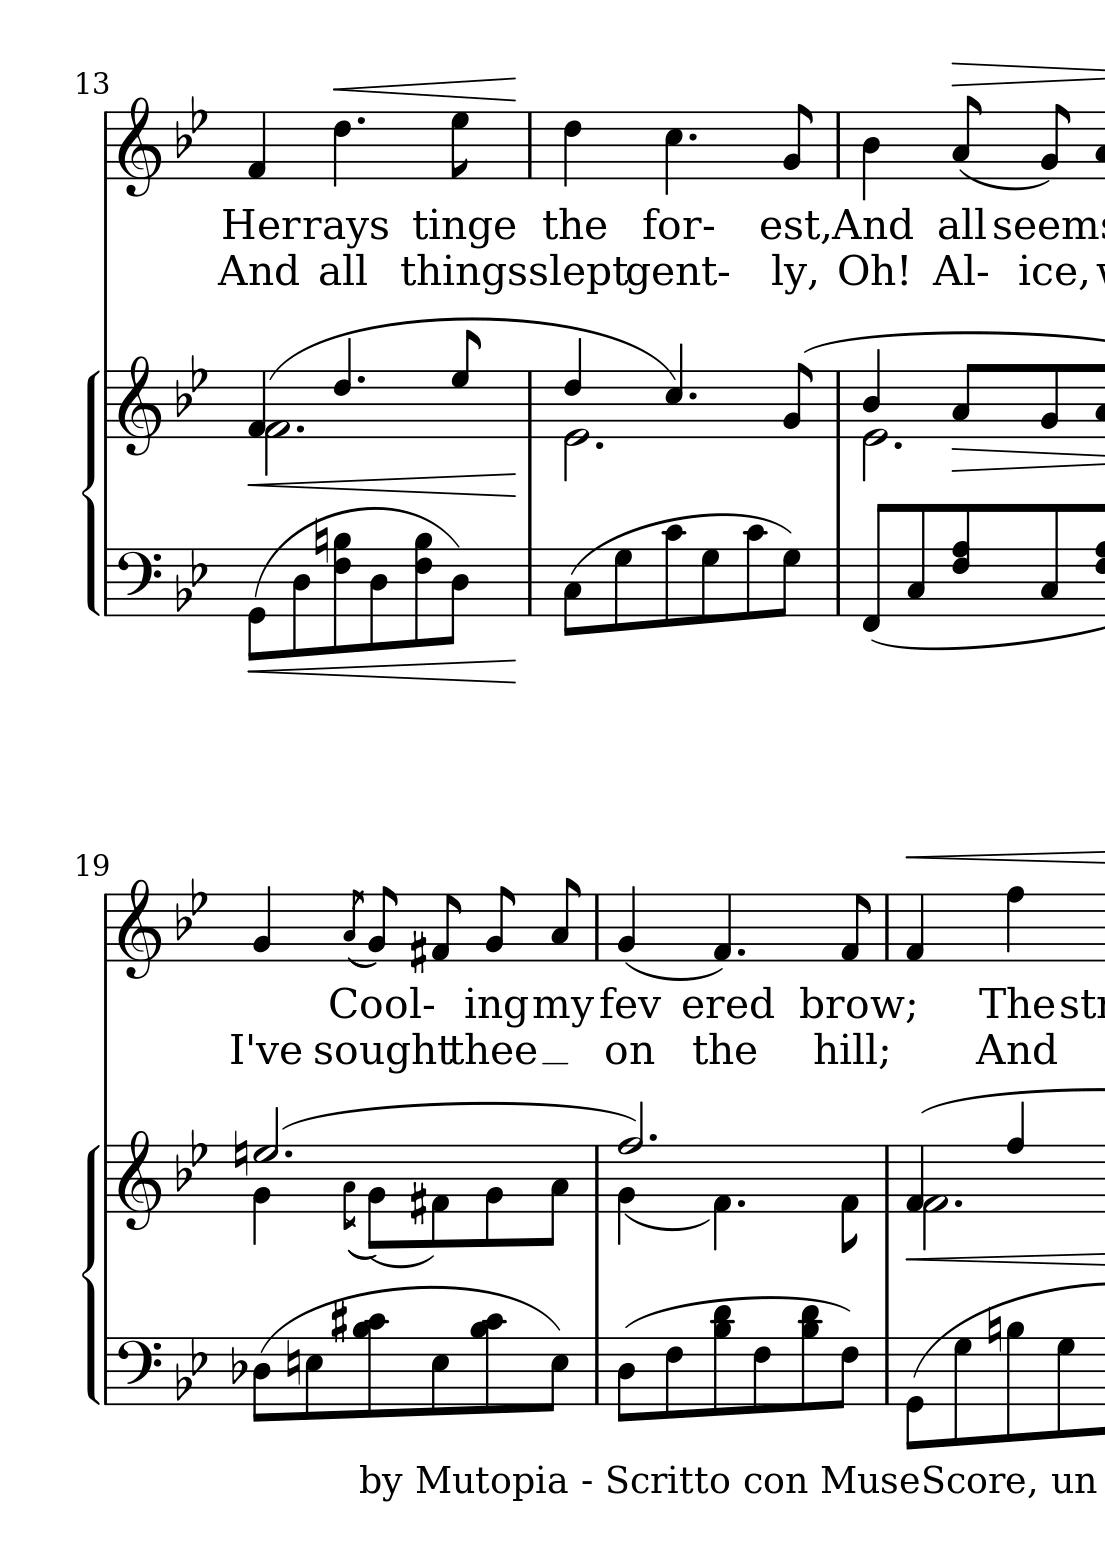1: (74, 851, 90, 879), (75, 69, 90, 97)
2_1: (265, 370, 291, 476), (924, 1144, 947, 1248)
3: (92, 69, 110, 97)
4_1: (712, 1142, 731, 1252), (902, 892, 926, 963), (244, 110, 267, 181), (710, 892, 732, 963), (904, 1144, 924, 1214), (248, 370, 265, 439)
4_2: (615, 884, 637, 963), (251, 883, 273, 963)
4_4: (860, 110, 881, 200)
4_5: (663, 341, 684, 440), (663, 109, 683, 197)
4_6: (330, 335, 352, 441), (561, 110, 582, 188), (331, 109, 352, 189)
4_8: (1003, 884, 1026, 964)
8_-1: (856, 502, 889, 634)
8_0: (905, 1337, 924, 1451), (248, 547, 265, 661)
8_1: (428, 892, 462, 963), (838, 892, 871, 963), (428, 1144, 450, 1250), (838, 1143, 857, 1254)
8_10: (660, 524, 686, 629), (741, 525, 767, 621)
8_2: (1038, 103, 1070, 182), (483, 884, 515, 963), (781, 360, 812, 440), (780, 102, 810, 182), (366, 885, 397, 961), (365, 1143, 386, 1250), (482, 1143, 503, 1248), (1038, 362, 1061, 441)
8_3: (541, 1142, 569, 1248), (950, 94, 982, 184), (548, 877, 580, 963), (904, 501, 927, 619), (1038, 501, 1061, 618), (950, 362, 979, 440), (561, 547, 582, 639)
8_4: (442, 547, 469, 646), (366, 547, 387, 653), (289, 547, 310, 658), (613, 1336, 637, 1425), (250, 1336, 271, 1424)
8_5: (541, 1336, 568, 1414), (303, 1336, 323, 1422), (429, 1336, 450, 1418)
8_6: (831, 1336, 859, 1410), (663, 1336, 683, 1422), (751, 1336, 771, 1416)
8_6_8: (951, 503, 971, 617)
8_6_9: (332, 532, 354, 654), (413, 532, 432, 649)
8_7: (448, 329, 478, 440), (951, 1335, 973, 1447), (1054, 1336, 1077, 1440), (773, 548, 800, 619), (611, 547, 633, 633), (698, 547, 720, 624), (448, 111, 470, 183)
8_8: (1005, 1099, 1026, 1215)
8_9: (1005, 1320, 1025, 1446)
8_9_10: (354, 1313, 390, 1419), (471, 1313, 508, 1414)
8_9_11: (710, 1305, 735, 1417), (798, 1305, 822, 1411)
9: (90, 850, 109, 879)
Acciaccature: (340, 1144, 359, 1234), (342, 886, 362, 961)
B_F: (175, 1335, 208, 1403), (173, 1127, 208, 1191), (173, 94, 207, 159), (173, 353, 207, 417), (176, 547, 208, 613), (173, 878, 207, 941)
Brace: (83, 1143, 100, 1404), (83, 368, 100, 616)
Crescendo_hairpin: (246, 657, 517, 686), (249, 471, 518, 497), (332, 74, 518, 103)
Fclef: (115, 547, 161, 618), (115, 1335, 160, 1406)
Flat: (228, 1344, 245, 1386)
Gclef: (116, 877, 161, 982), (116, 1129, 161, 1232), (117, 94, 161, 199), (117, 354, 161, 457)
Natural: (283, 1337, 300, 1387), (312, 517, 329, 566), (231, 1128, 248, 1177), (985, 1306, 1001, 1353)
Sharp: (407, 930, 428, 976), (329, 1299, 348, 1347), (408, 1180, 426, 1227)
Single_barline: (878, 1337, 896, 1405), (829, 372, 847, 439), (588, 1338, 606, 1405), (521, 548, 538, 617), (521, 372, 538, 439), (829, 549, 845, 616), (878, 895, 895, 961), (521, 112, 538, 178), (829, 112, 845, 178), (878, 1146, 895, 1211), (99, 370, 115, 439), (99, 1144, 115, 1214), (97, 112, 112, 181), (590, 895, 605, 960), (590, 1147, 605, 1211), (98, 895, 112, 961), (99, 1338, 114, 1404), (100, 549, 114, 616)
Slur: (279, 1101, 636, 1129), (623, 963, 724, 984), (371, 1252, 435, 1269), (344, 957, 380, 969), (346, 1247, 376, 1260)
dot: (684, 129, 700, 144), (891, 436, 904, 452), (354, 114, 367, 128), (354, 372, 367, 386), (734, 1196, 747, 1210), (951, 1196, 964, 1210), (293, 422, 306, 435), (593, 438, 606, 451), (281, 1147, 294, 1160), (686, 389, 698, 403), (646, 1132, 659, 1144), (735, 945, 746, 959)
